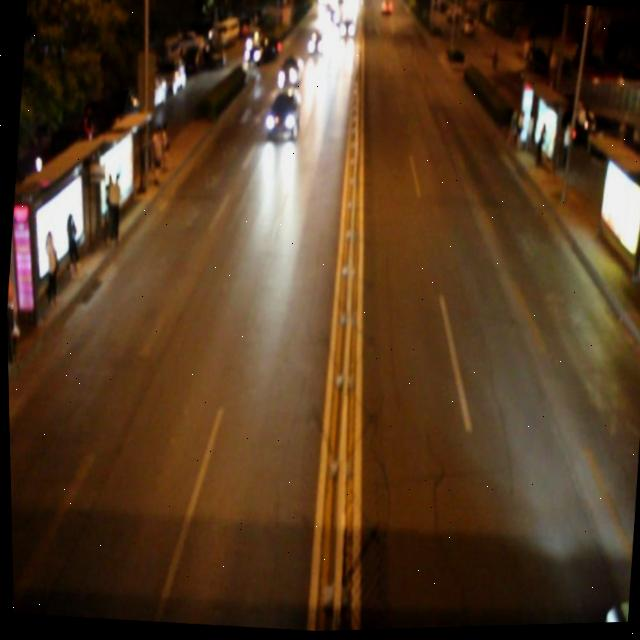car: (263, 88, 303, 142), (275, 53, 305, 93)
